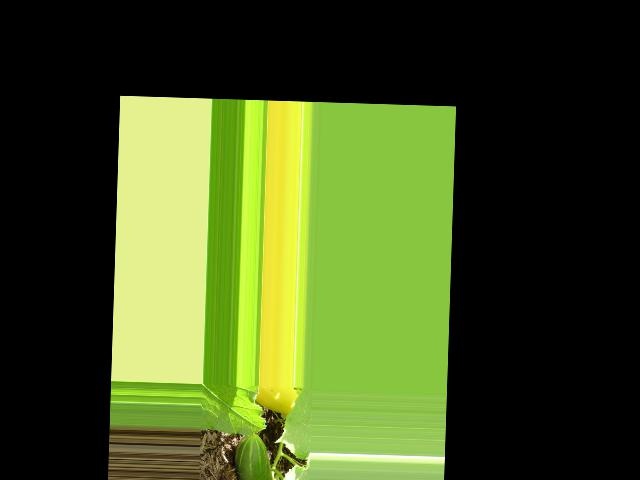cucumber: (232, 433, 275, 480)
